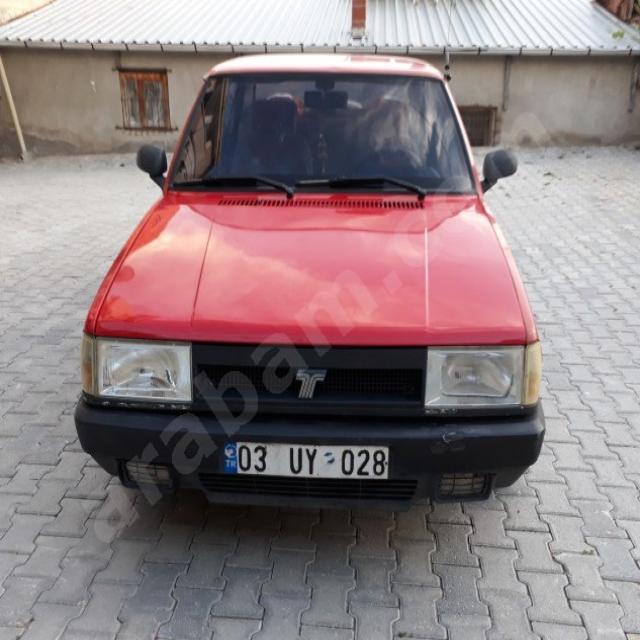license_plate: (222, 440, 390, 480)
